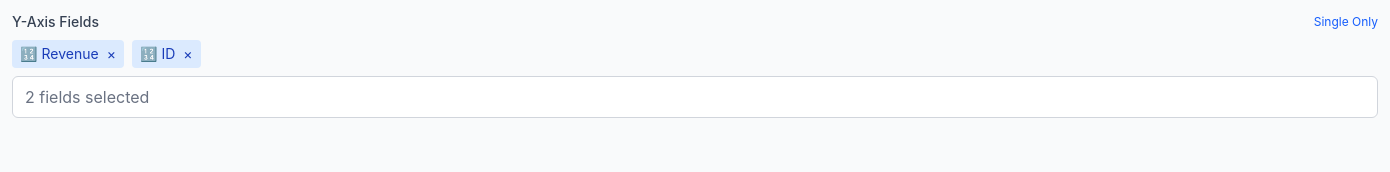
it: FieldMultiSelect › Mode Toggle › switches from multiple to single mode keeping first selection
# Click mode toggle
What coordinates should you click on to do the following:
click the button "Single Only"
I would click on:
 (1346, 22)
Its box is [1314,14,1378,30].
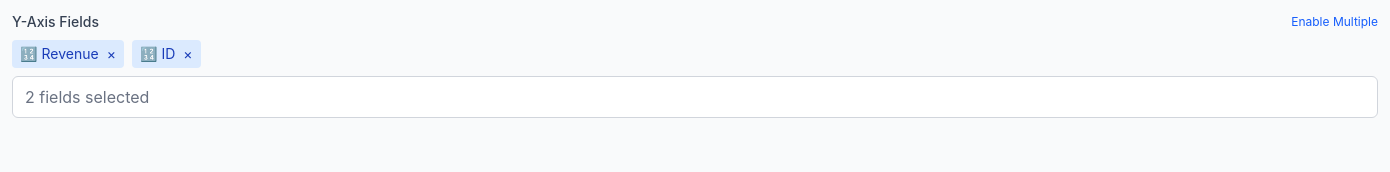
Check: the button "Enable Multiple" is shown, box [1291,14,1378,30]
